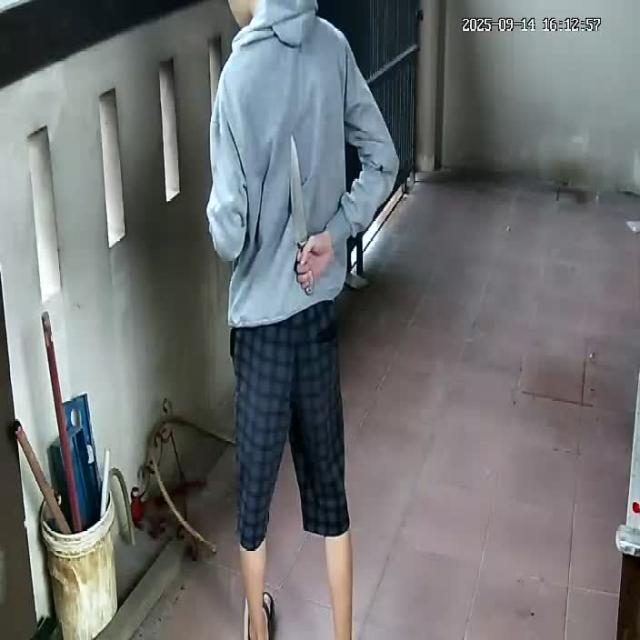senjata_tajam: (287, 134, 309, 250)
